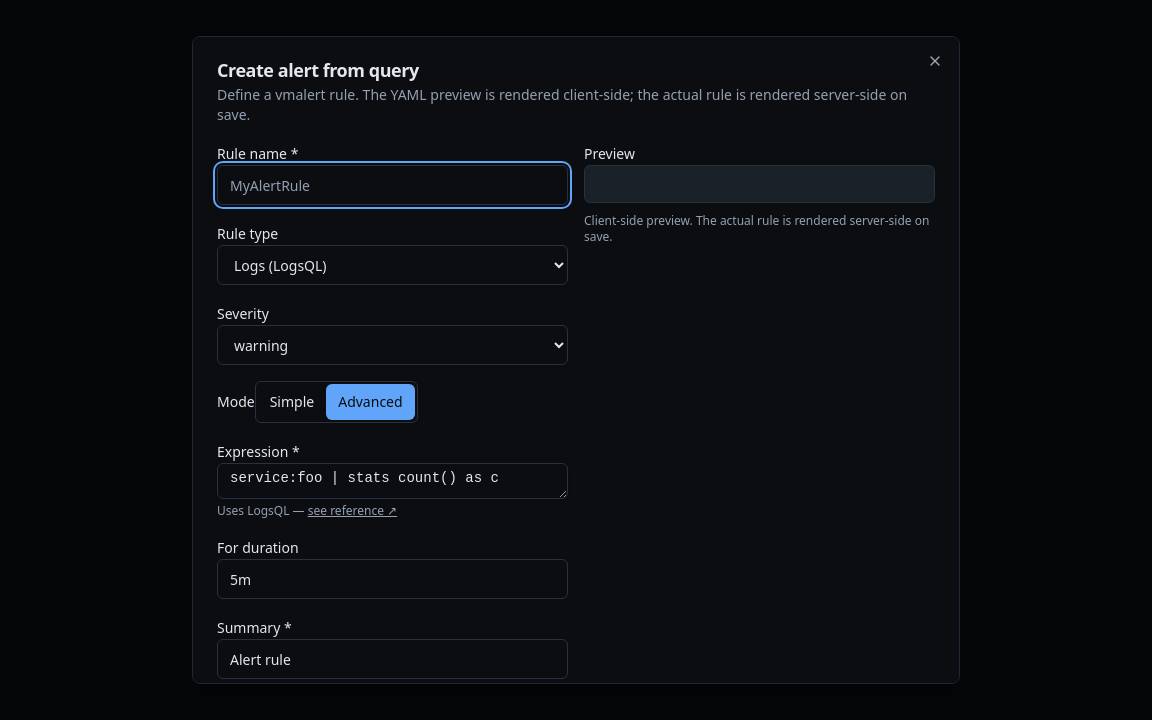
it: CreateAlertModal modes › Advanced→Simple confirms when the expr was hand-edited and recompiles on confirm
The image size is (1152, 720).
Replace the text in the text box with test id "logsql-editor-textarea" with "service:bar | stats count() as c" at (392, 481), box [217,463,568,499]
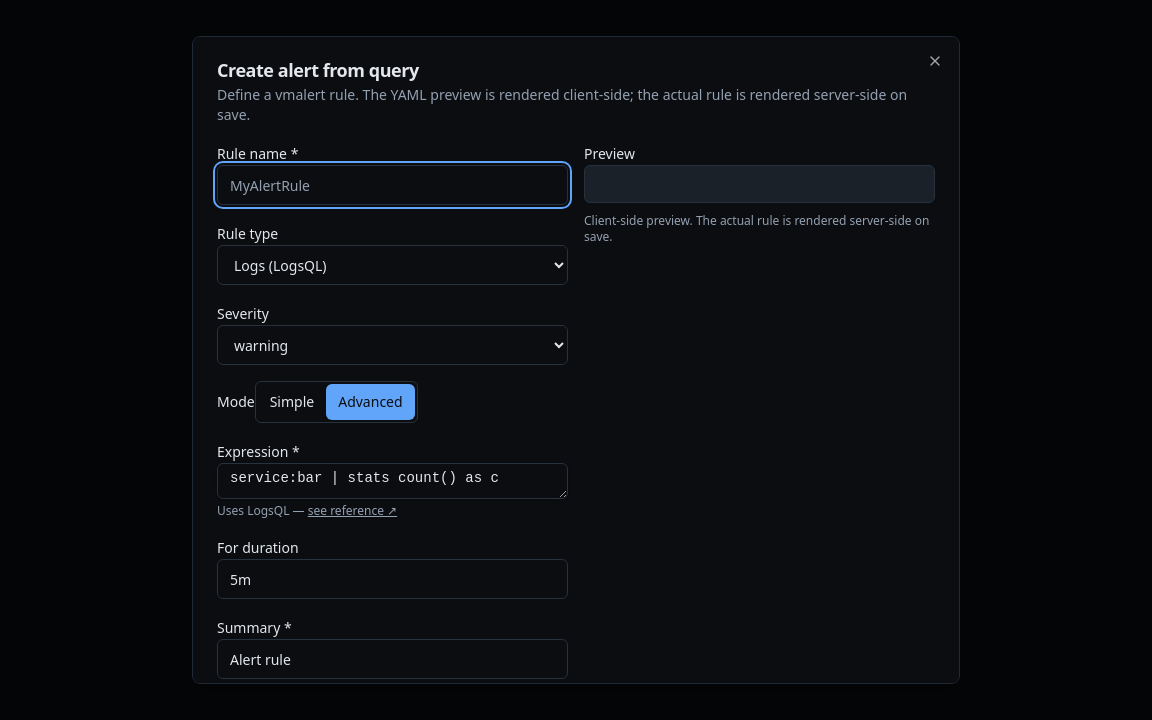
Click the tab with test id "create-alert-mode-simple".
click(292, 402)  # box [258,384,326,420]
(page scrolled)
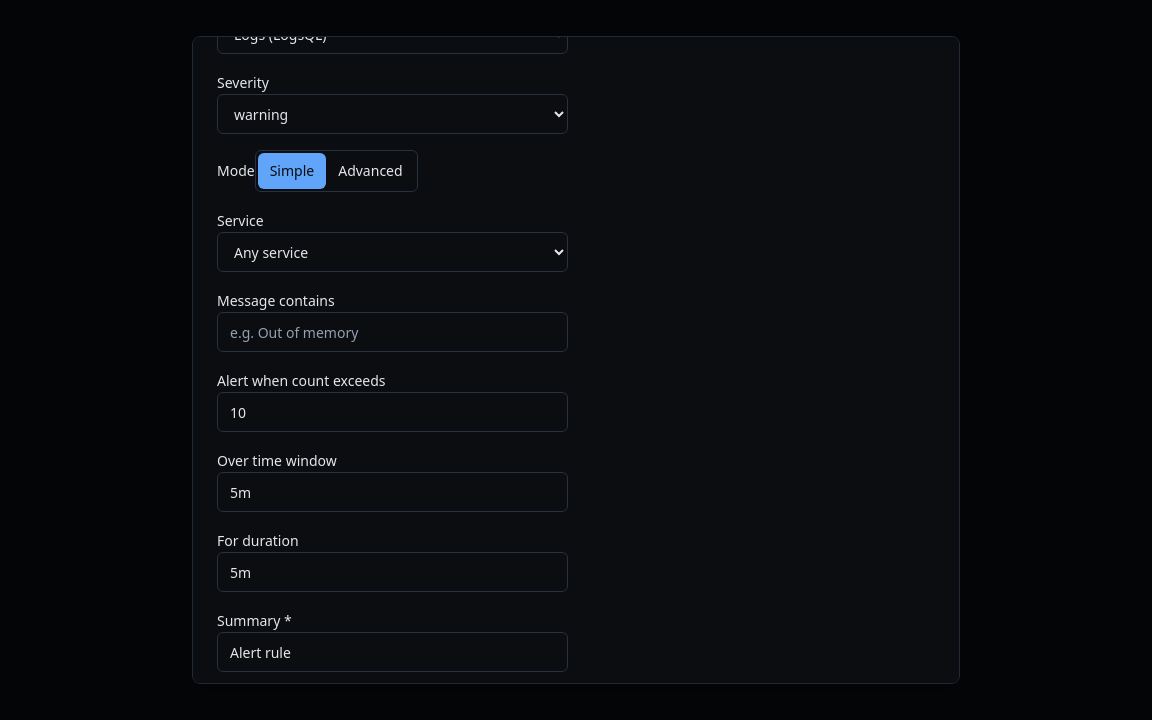
Expected: the element with test id "create-alert-simple-fields" is shown, [217,208,568,512]
